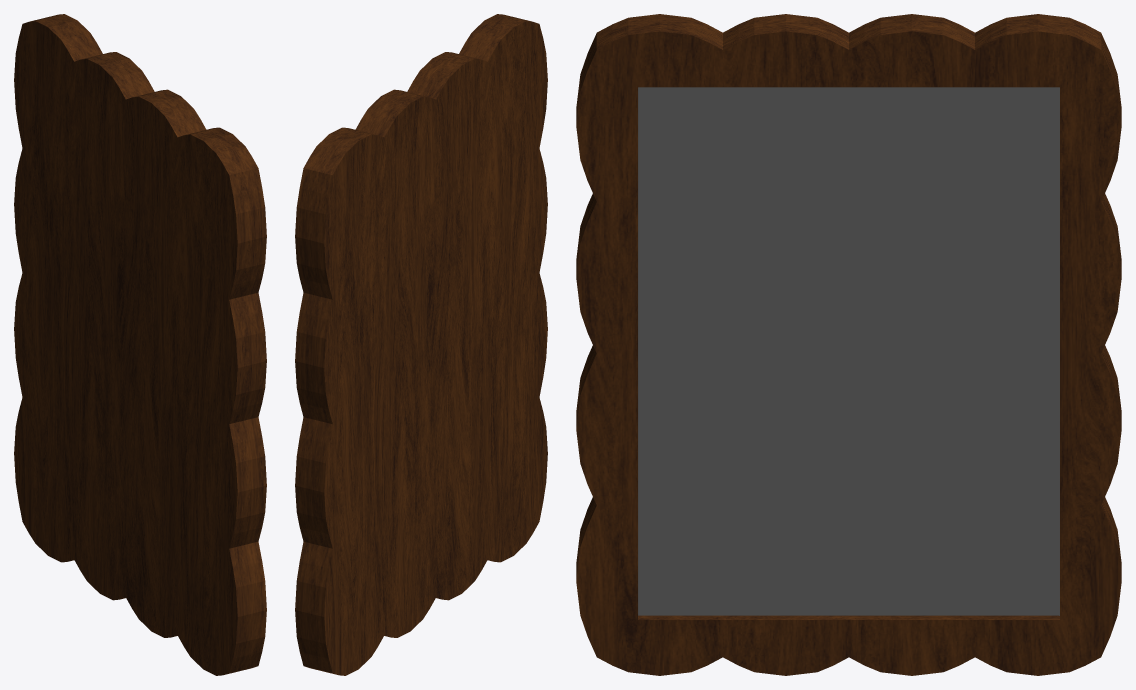
Rendered from Espejo.fbx.
3 views of the same model, side by side, from view 1: azimuth 30°, elevation 25°; view 2: azimuth 150°, elevation 25°; view 3: azimuth 270°, elevation 25° (orthographic). The views are drawn at different scales.
Visible parts, largest first — view 1: Cube; view 2: Cube; view 3: Cube.
Boxes of the visible parts, x1,y1,x2,y2 form: Cube: (14,14,266,675); Cube: (295,14,547,675); Cube: (576,14,1121,675).
Bounding box in the file's own units: 0.2 × 3.45 × 2.65.
